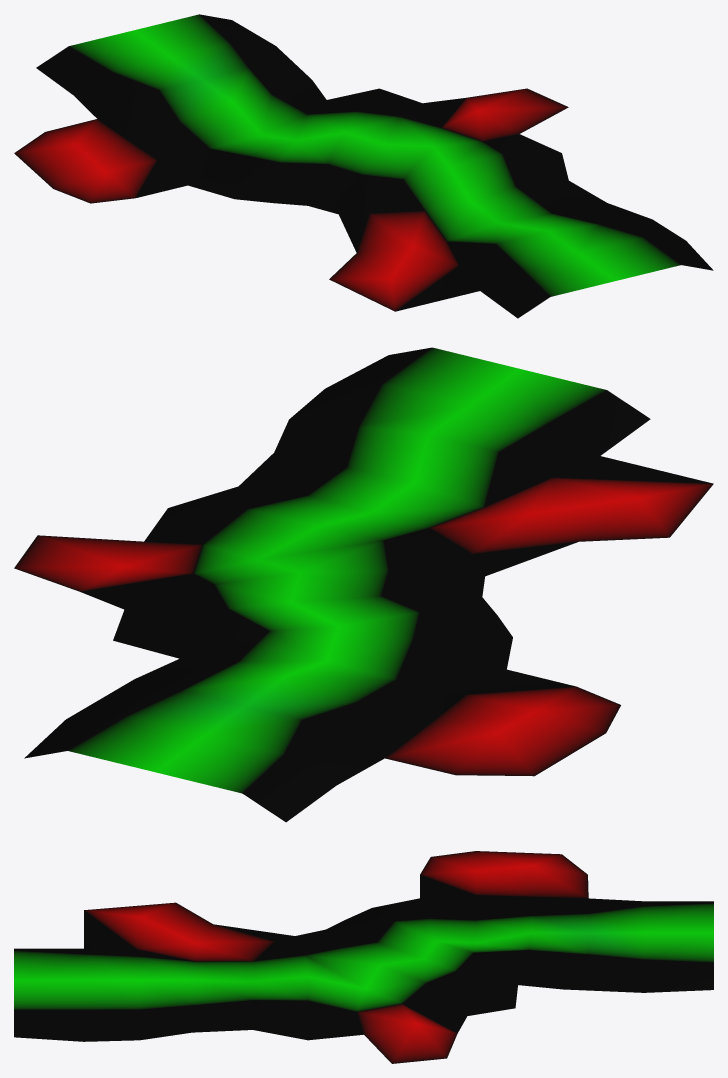
The model's file is Section_WayLine01_Swamp_Terrain.fbx.
3 views of the same model, one above another, from view 1: azimuth 30°, elevation 25°; view 2: azimuth 150°, elevation 25°; view 3: azimuth 270°, elevation 25° (orthographic). The views are drawn at different scales.
Visible parts, largest first — view 1: Section_WayLine01_Swamp_Terrain; view 2: Section_WayLine01_Swamp_Terrain; view 3: Section_WayLine01_Swamp_Terrain.
Boxes of the visible parts, x1,y1,x2,y2 form: Section_WayLine01_Swamp_Terrain: [14, 14, 713, 318]; Section_WayLine01_Swamp_Terrain: [14, 347, 713, 822]; Section_WayLine01_Swamp_Terrain: [14, 851, 713, 1063].
Bounding box in the file's own units: 3600 × 107 × 5000.
